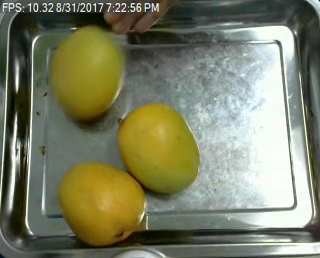Mango: (118, 102, 200, 196), (57, 162, 145, 245), (49, 24, 122, 122)
